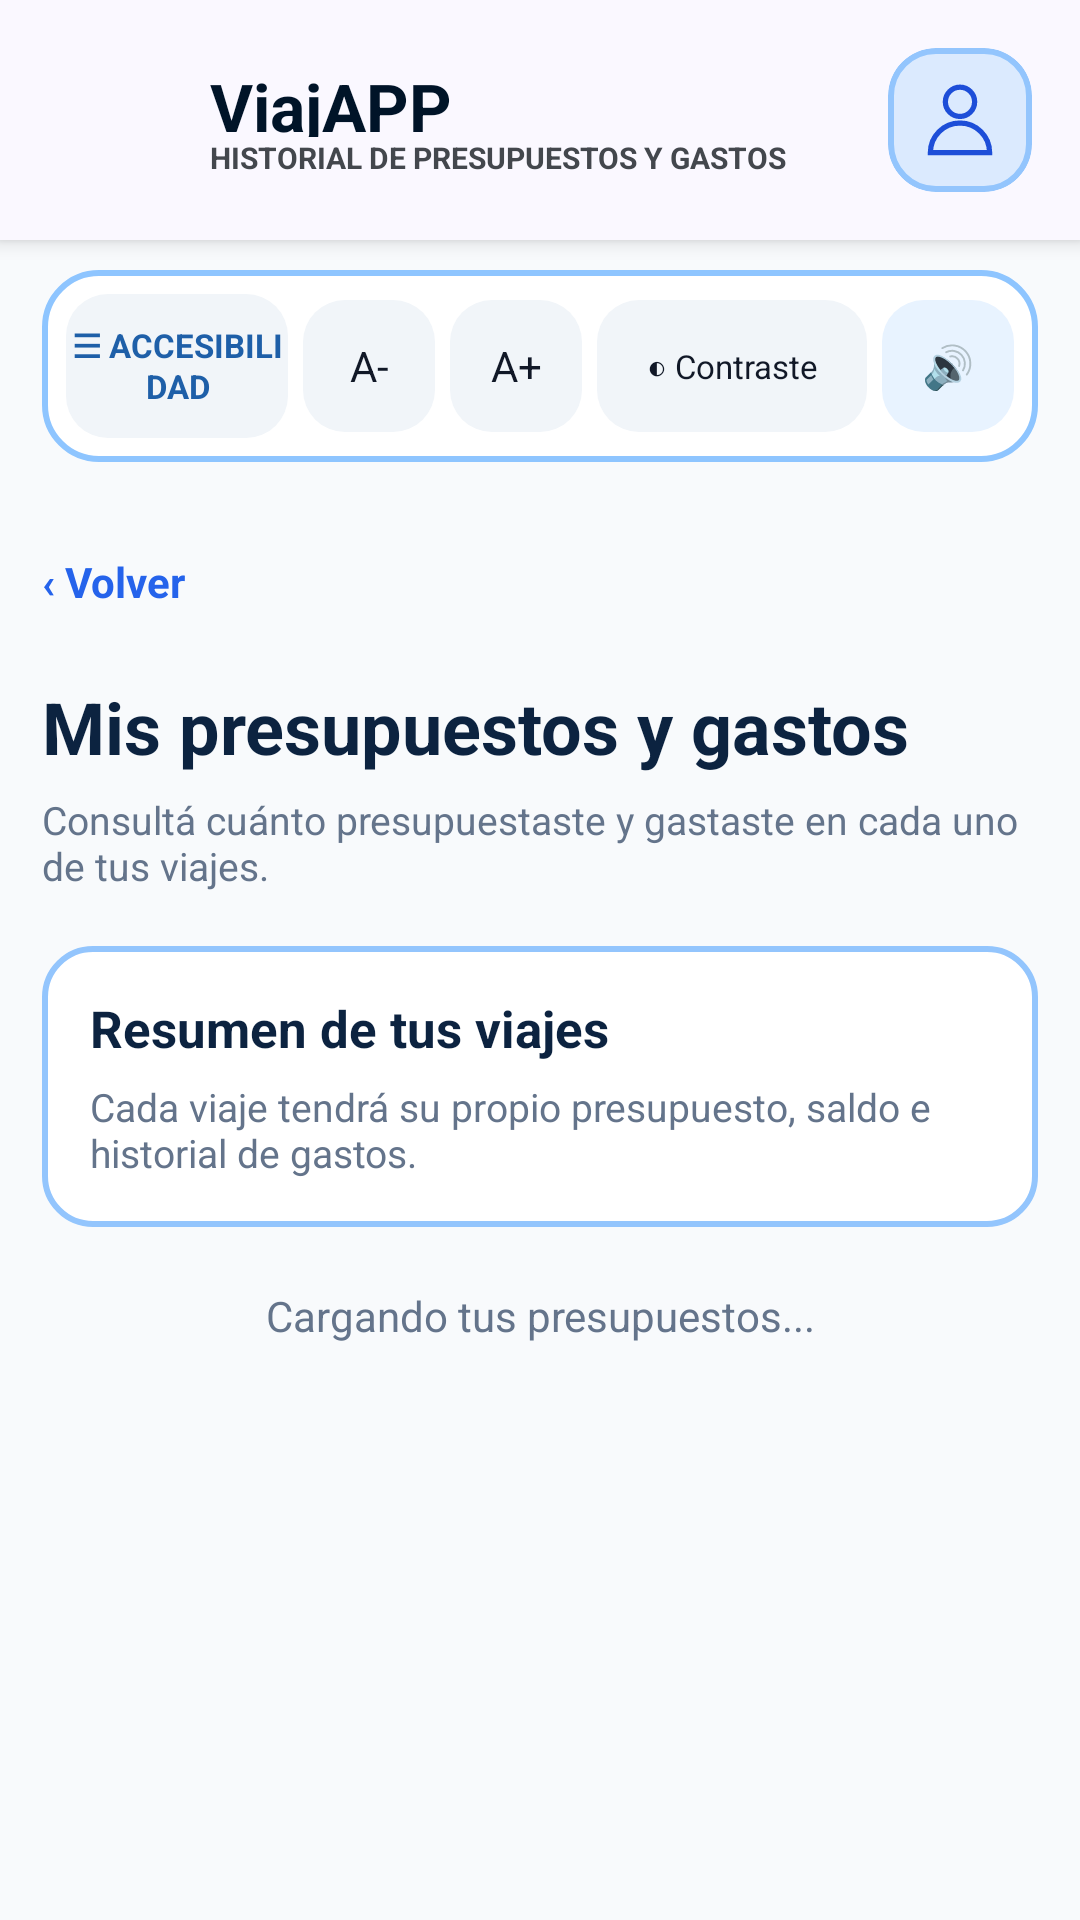

Icons on this 1080px x 1920px Android screen, each with the point to tap as point (x, y):
person: point (960, 120)
